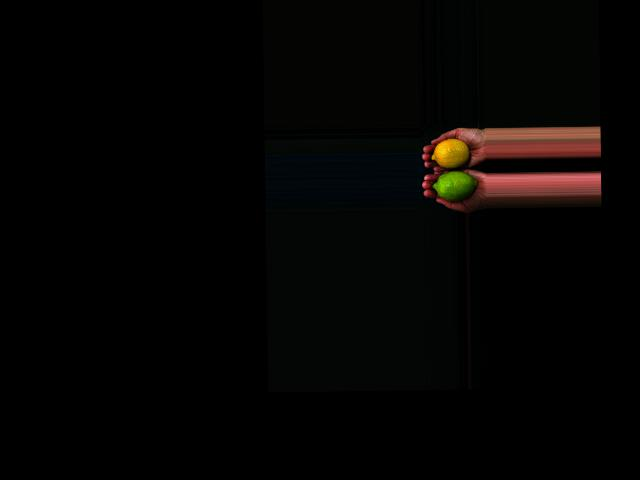lemon: (431, 138, 471, 169)
